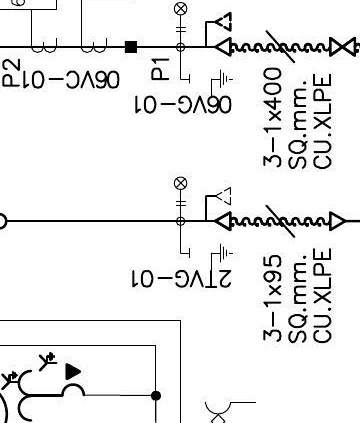22_gs: (188, 69, 234, 97), (188, 244, 234, 271)
22_ll: (173, 1, 188, 33), (173, 176, 188, 207)
terminator_single: (328, 209, 347, 232)
terminator_splicing_kits: (329, 36, 357, 58)
terminator_w_future: (203, 185, 232, 232), (204, 11, 233, 58)
